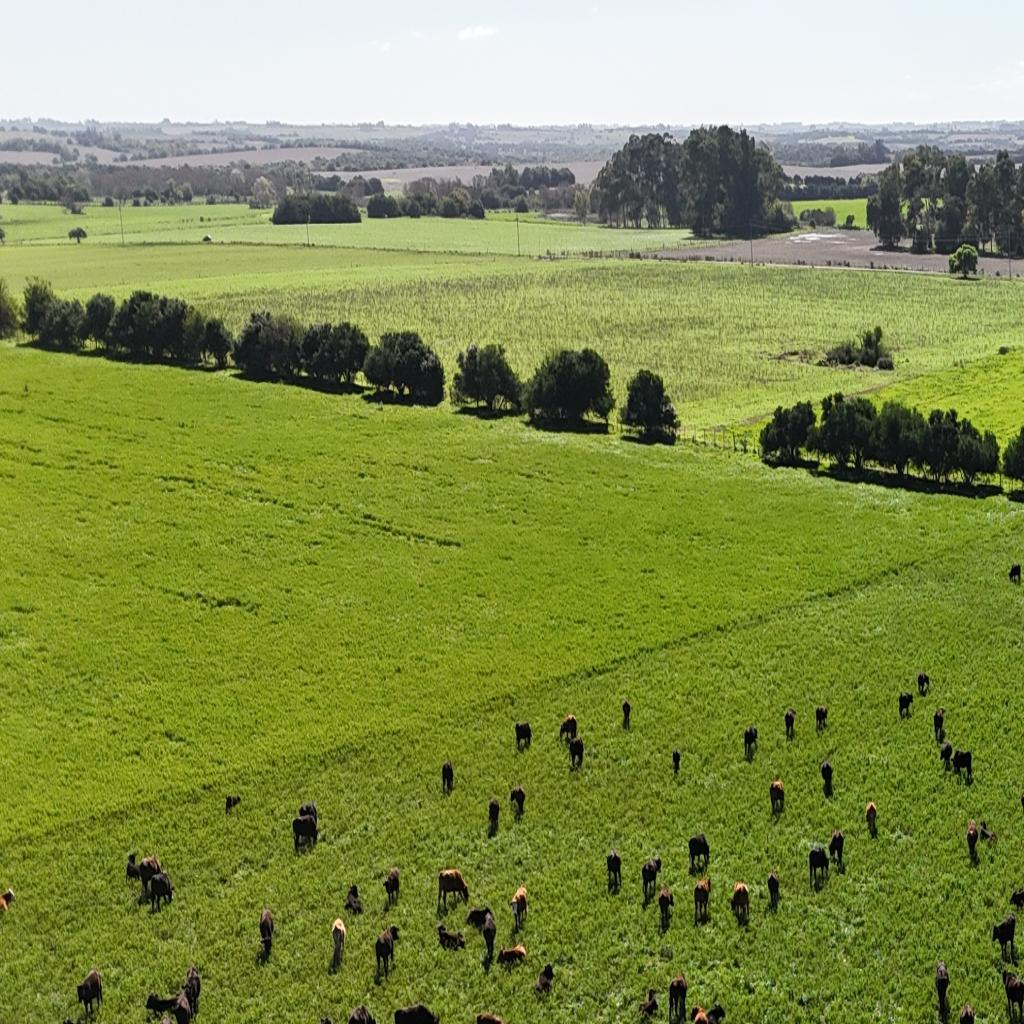cow: (438, 868, 470, 914), (375, 926, 400, 980), (77, 969, 104, 1019), (992, 913, 1016, 963), (136, 855, 162, 901), (1002, 970, 1024, 1023), (292, 814, 318, 854), (668, 972, 688, 1023), (150, 872, 174, 912), (184, 964, 202, 1016), (394, 1003, 438, 1024), (809, 844, 829, 888), (730, 881, 750, 924), (688, 834, 710, 872), (936, 959, 950, 1018), (146, 992, 179, 1017), (507, 786, 527, 826), (510, 884, 527, 930), (642, 858, 660, 901), (260, 907, 275, 958), (437, 925, 466, 951), (694, 878, 710, 924), (331, 916, 346, 964), (952, 749, 972, 784), (482, 910, 496, 960), (498, 942, 526, 967), (658, 888, 674, 931), (465, 906, 493, 930), (606, 851, 622, 891), (639, 989, 658, 1022), (384, 868, 400, 907), (534, 965, 554, 996), (769, 779, 785, 816), (347, 1004, 376, 1024), (829, 828, 844, 866), (344, 883, 362, 914), (514, 721, 532, 750), (767, 870, 780, 910), (568, 736, 584, 768), (299, 801, 318, 827), (968, 819, 979, 863), (560, 714, 577, 742), (744, 725, 758, 759), (706, 1001, 726, 1024), (979, 822, 998, 846), (820, 760, 833, 795), (866, 800, 878, 836), (126, 858, 142, 885), (488, 797, 500, 832), (933, 708, 945, 743), (442, 760, 454, 794), (0, 887, 15, 914), (940, 741, 953, 771), (899, 692, 913, 719), (476, 1011, 504, 1024), (784, 708, 796, 738), (815, 705, 828, 732), (960, 1004, 976, 1024), (917, 672, 930, 695), (691, 1007, 709, 1023), (622, 700, 631, 730), (226, 793, 241, 811), (1015, 886, 1024, 912), (1008, 564, 1020, 583), (672, 749, 681, 774), (148, 856, 162, 872)
